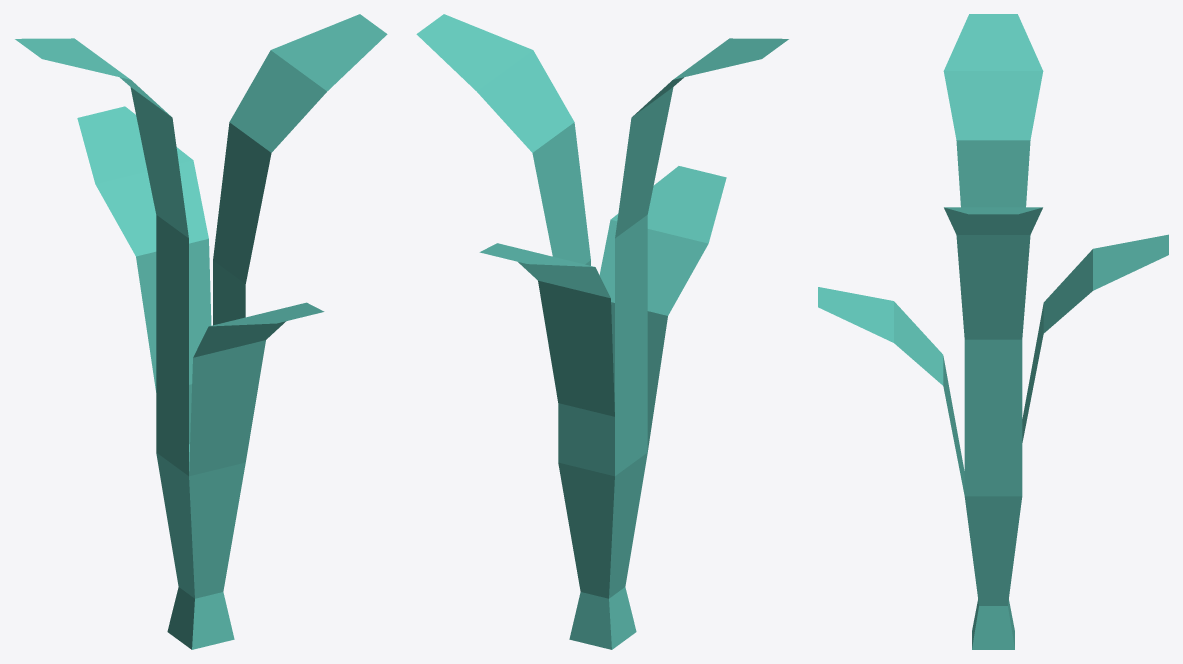
Rendered from crops_leafsStageB.glb.
3 views of the same model, side by side, from view 1: azimuth 30°, elevation 25°; view 2: azimuth 150°, elevation 25°; view 3: azimuth 270°, elevation 25° (orthographic). The views are drawn at different scales.
Visible parts, largest first — view 1: crops_leafsStageB; view 2: crops_leafsStageB; view 3: crops_leafsStageB.
Boxes of the visible parts, x1,y1,x2,y2 form: crops_leafsStageB: (15, 14, 387, 649); crops_leafsStageB: (416, 14, 788, 649); crops_leafsStageB: (818, 14, 1168, 649).
Bounding box in the file's own units: 0.3894 × 0.6771 × 0.3894.
